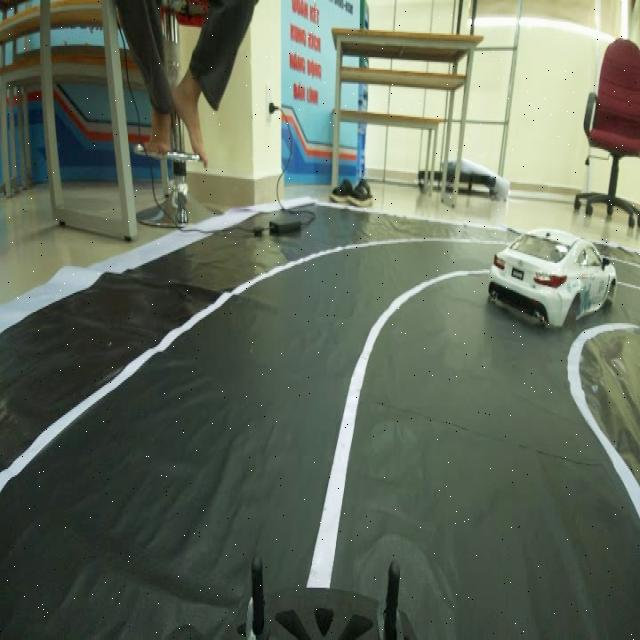car: (489, 224, 621, 332)
